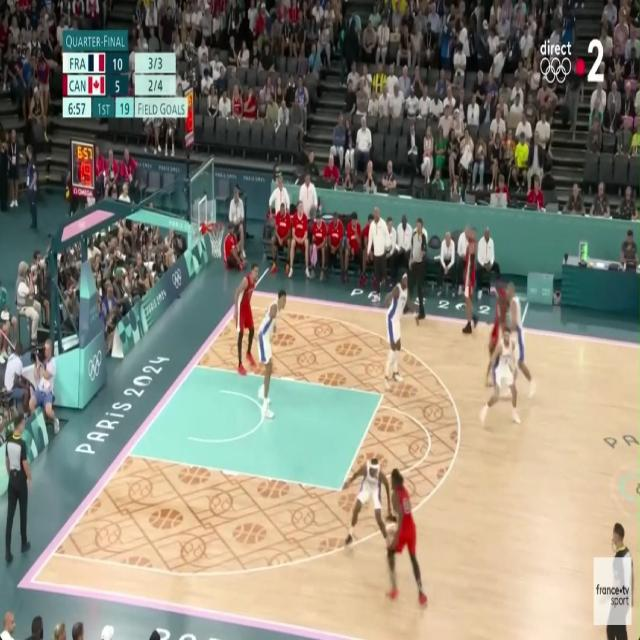ball_handler: (385, 469, 427, 609)
